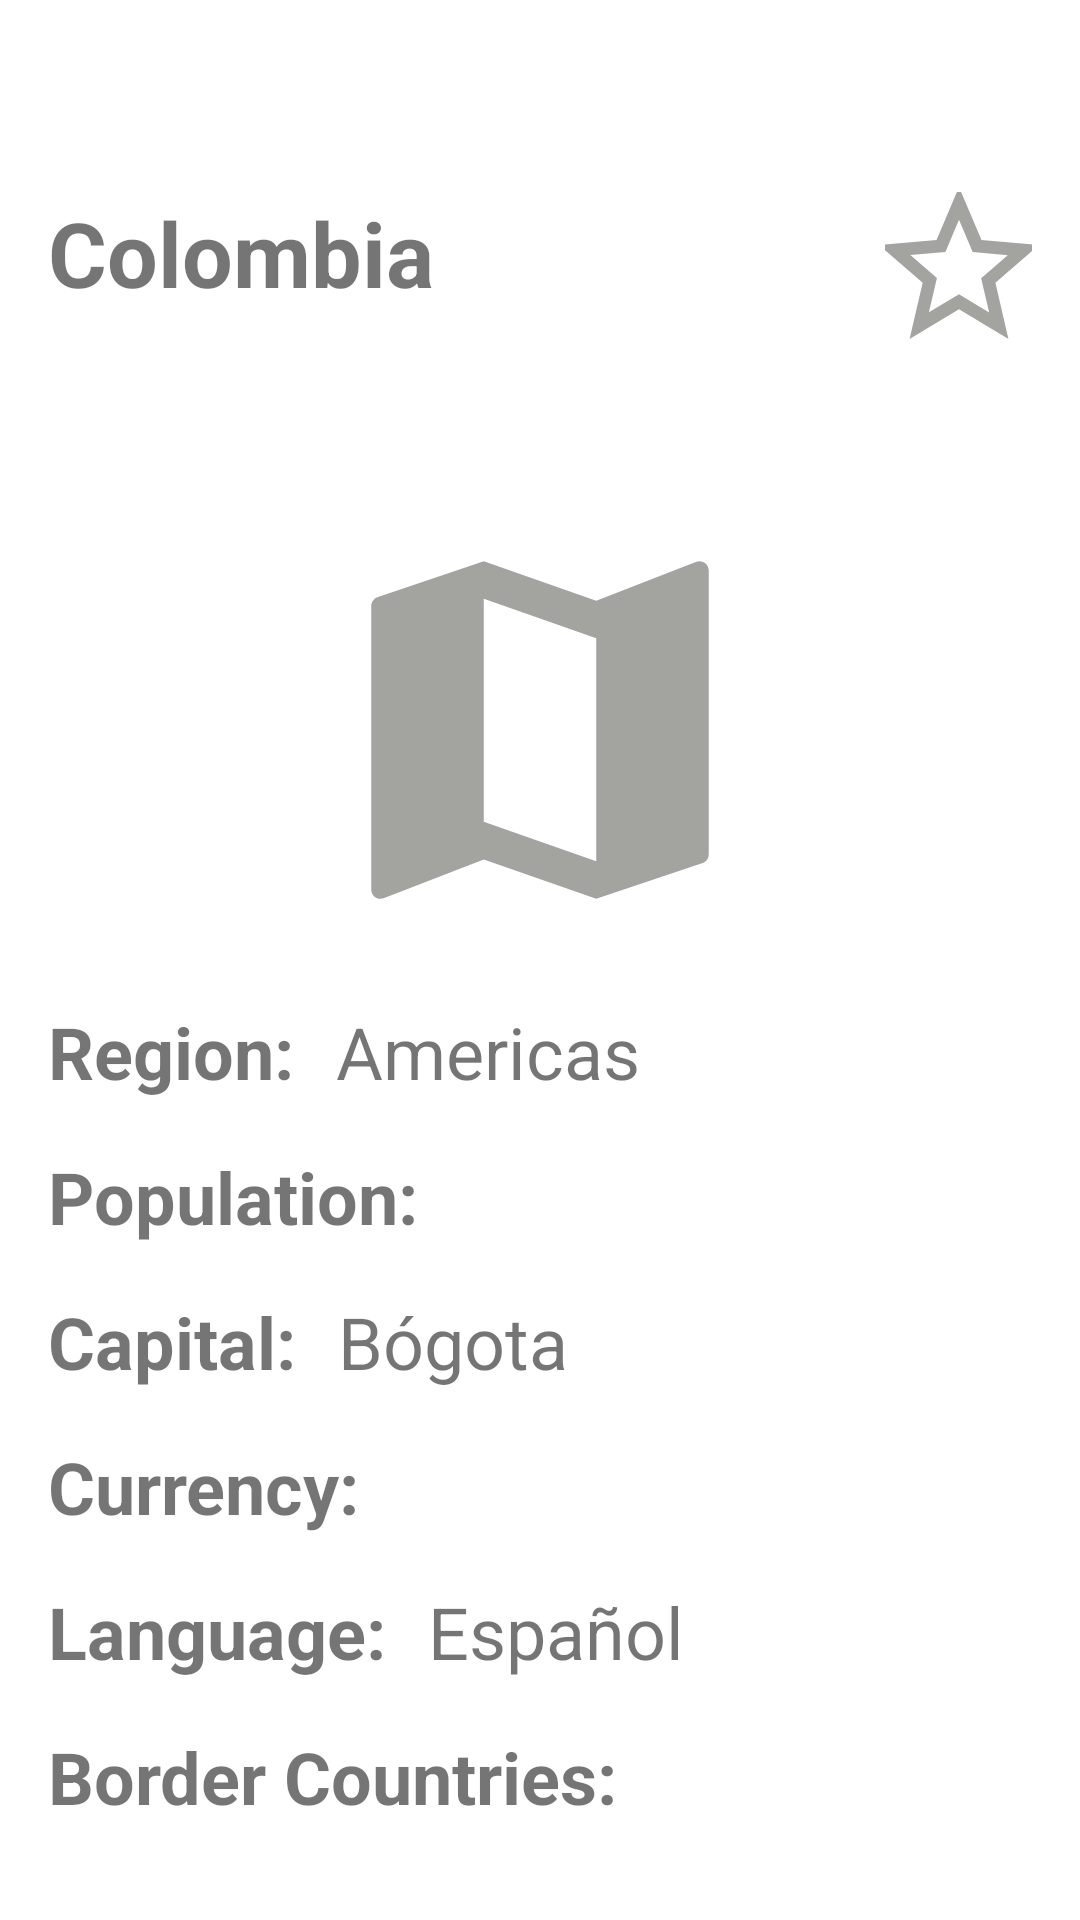

Where to tap for icons on this 1080 × 1920 app screen, as (x,y):
map: (540,730)
star: (958,265)
